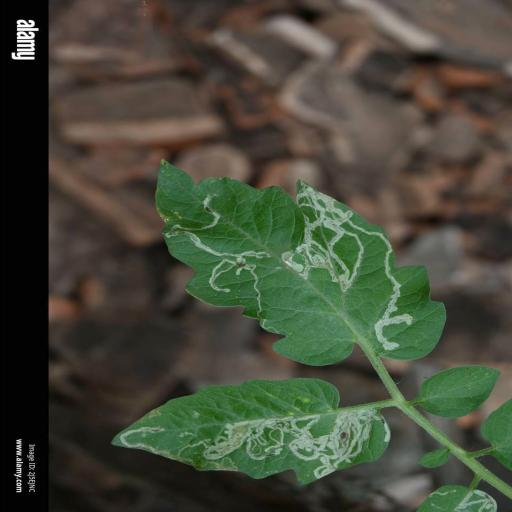disease_tomato: (152, 154, 449, 366), (105, 376, 395, 486)
